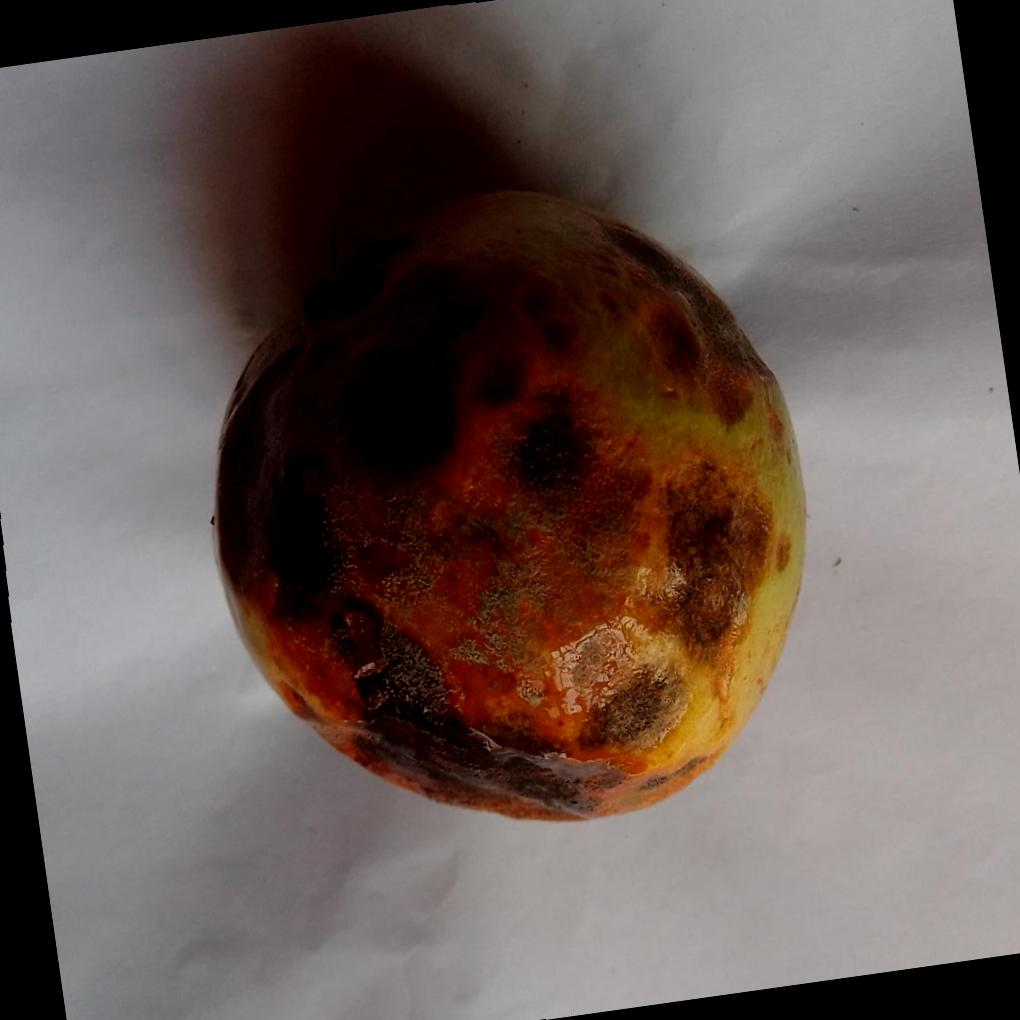FreshOrange: (213, 187, 812, 823)
